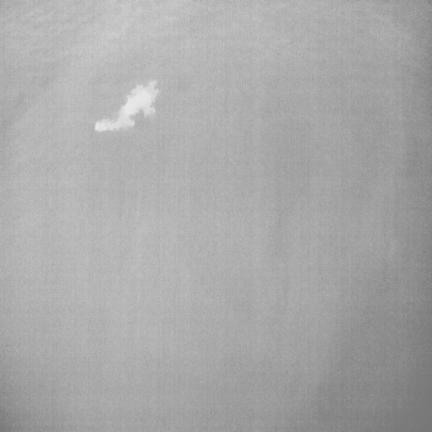flukeprints: (94, 81, 159, 132)
